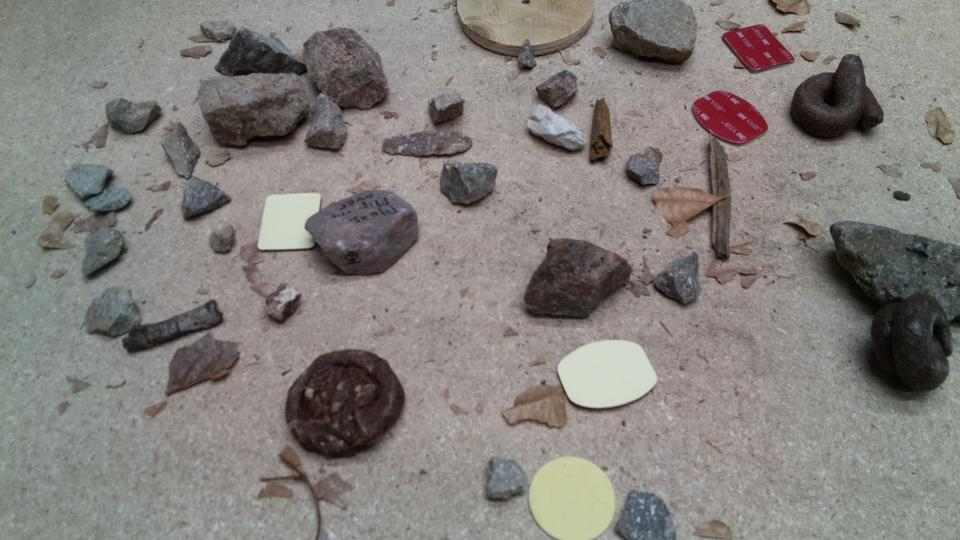poop: (285, 347, 408, 459), (867, 290, 956, 394), (789, 51, 886, 142)
